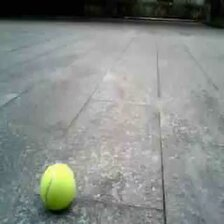tennis: (42, 165, 74, 206)
